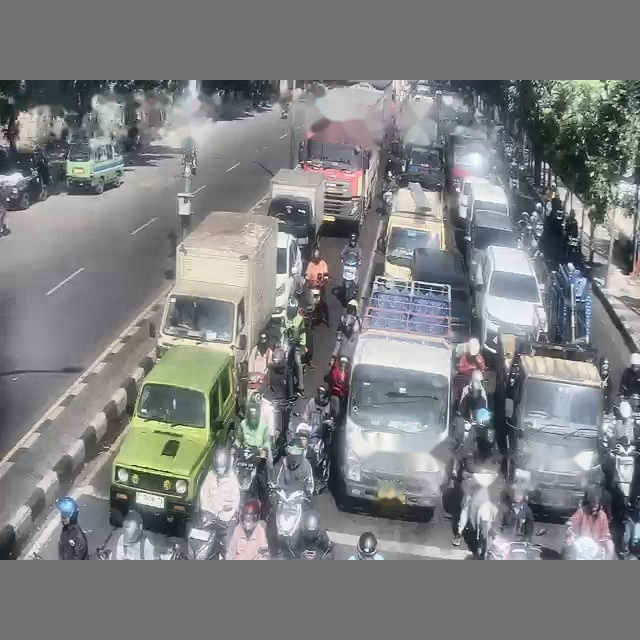Motor: (275, 488, 304, 554), (307, 411, 333, 484), (186, 514, 224, 559), (485, 534, 542, 559), (234, 446, 261, 495), (329, 356, 349, 422), (563, 536, 605, 560), (342, 254, 359, 303)
Truk: (336, 276, 454, 508), (149, 211, 277, 379), (495, 335, 604, 511), (298, 88, 384, 229), (267, 167, 324, 258), (544, 263, 591, 344)
